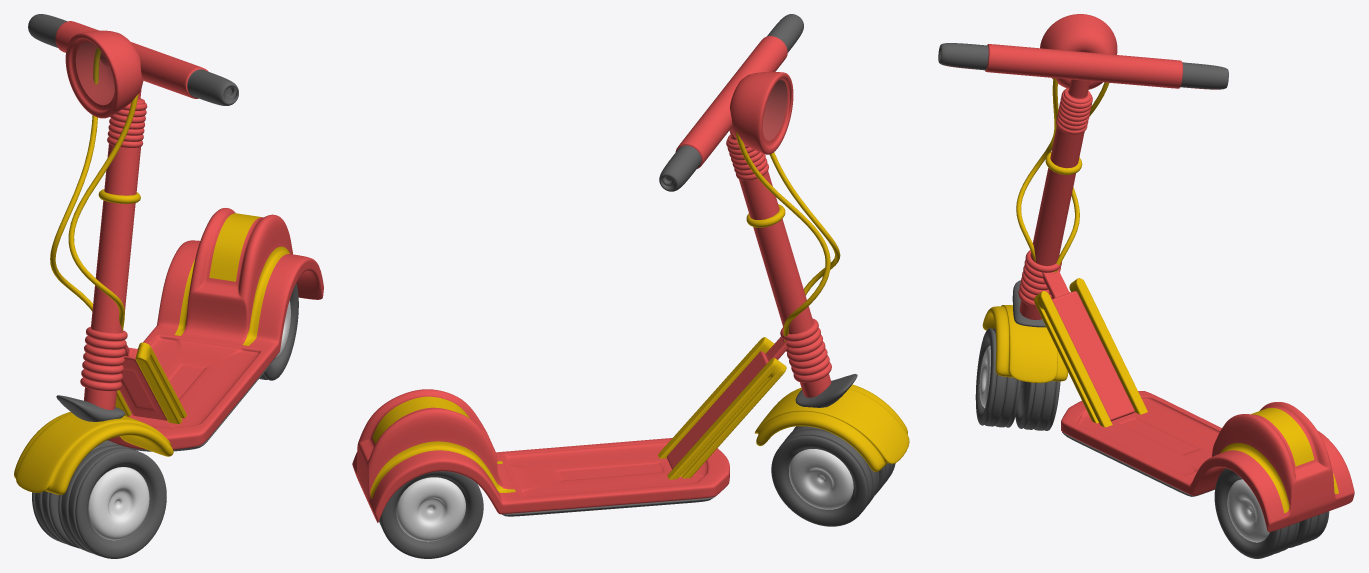
File: electric-scooter-3d-animated-icon-45467255899.glb
The picture shows the model from 3 angles, left to right: view 1: azimuth 30°, elevation 25°; view 2: azimuth 150°, elevation 25°; view 3: azimuth 270°, elevation 25°; orthographic projection. The views are drawn at different scales.
Visible parts, largest first — view 1: body.001, tire.001, cable, body.003, body.002, lamp, body, body.005, tire.006, body.004, body.008; view 2: body.001, tire.001, tire.006, body.002, cable, body, body.003, lamp, body.006, body.004, body.005, body.008; view 3: body.001, body, tire.001, tire.006, body.003, cable, body.002, lamp, body.004, body.005, body.006.
Boxes of the visible parts, <box> form: body.001: <box>108,208,323,451</box>; tire.001: <box>32,440,166,558</box>; cable: <box>50,47,147,391</box>; body.003: <box>84,90,144,409</box>; body.002: <box>14,412,173,494</box>; lamp: <box>65,30,143,118</box>; body: <box>28,14,238,105</box>; body.005: <box>135,342,186,423</box>; tire.006: <box>259,283,298,380</box>; body.004: <box>120,345,166,420</box>; body.008: <box>56,395,125,421</box>; body.001: <box>352,337,787,522</box>; tire.001: <box>771,426,895,526</box>; tire.006: <box>379,471,483,558</box>; body.002: <box>755,384,909,471</box>; cable: <box>726,132,840,382</box>; body: <box>659,14,803,191</box>; body.003: <box>727,130,831,397</box>; lamp: <box>730,72,793,154</box>; body.006: <box>667,358,786,479</box>; body.004: <box>666,336,788,469</box>; body.005: <box>658,337,773,458</box>; body.008: <box>795,374,857,407</box>; body.001: <box>1034,269,1354,531</box>; body: <box>938,43,1228,89</box>; tire.001: <box>975,328,1060,430</box>; tire.006: <box>1214,468,1329,558</box>; body.003: <box>1019,79,1091,319</box>; cable: <box>1016,78,1109,307</box>; body.002: <box>982,305,1068,382</box>; lamp: <box>1040,14,1117,89</box>; body.004: <box>1042,270,1134,421</box>; body.005: <box>1034,291,1112,427</box>; body.006: <box>1069,278,1147,414</box>.
Bounding box in the file's own units: 2.68 × 2.82 × 2.5.
